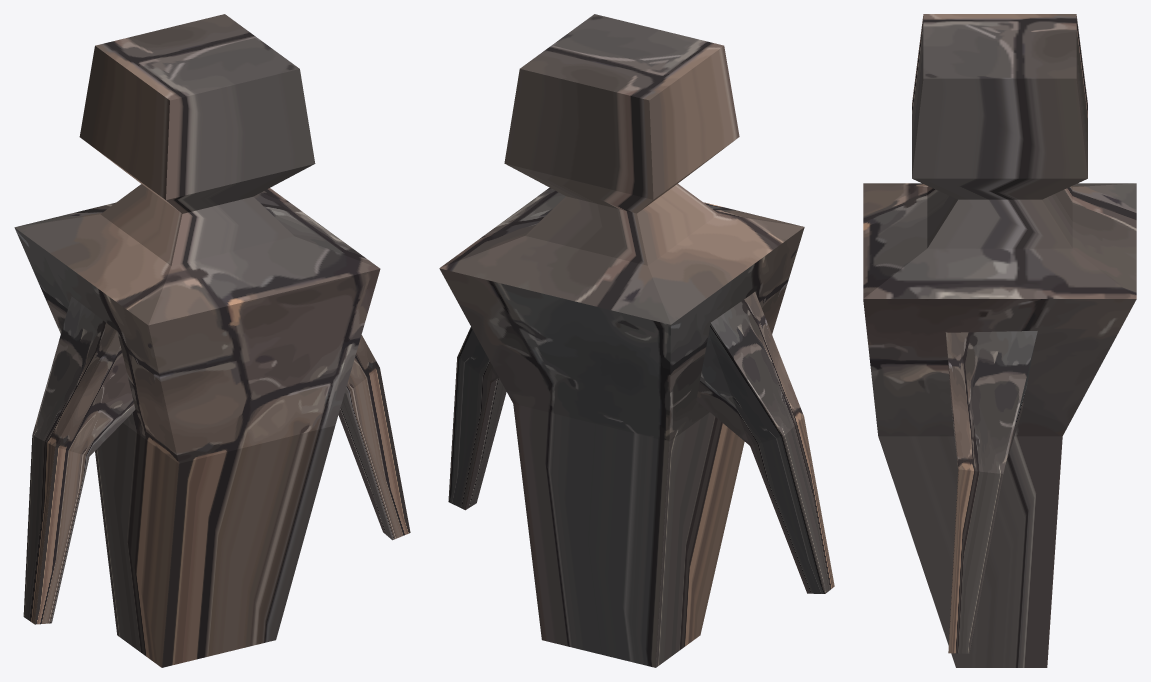
Rendered from body.obj.
3 views of the same model, side by side, from view 1: azimuth 30°, elevation 25°; view 2: azimuth 150°, elevation 25°; view 3: azimuth 270°, elevation 25° (orthographic). The views are drawn at different scales.
Parts seen in each view (by area): view 1: Cube, Cube.001; view 2: Cube, Cube.001; view 3: Cube, Cube.001.
Boxes of the visible parts, <box> form: Cube: <box>14,14,380,667</box>; Cube.001: <box>23,296,410,624</box>; Cube: <box>439,14,804,667</box>; Cube.001: <box>448,292,834,593</box>; Cube: <box>863,14,1136,667</box>; Cube.001: <box>945,331,1037,653</box>.
Size of the model in its own units: 3.25 by 4.78 by 2.
